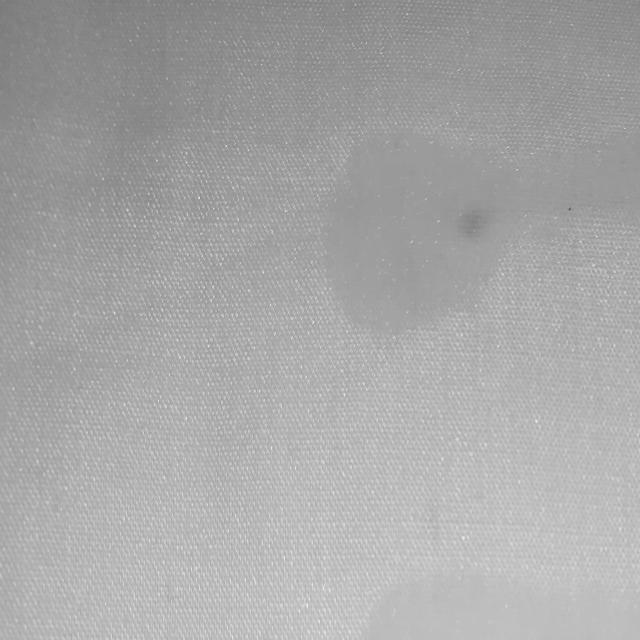Stain: (326, 131, 640, 332), (366, 574, 640, 640)
